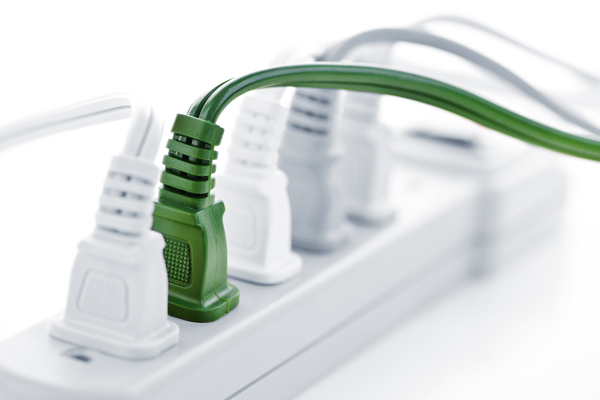Three_eye_plug: (1, 114, 573, 400)
